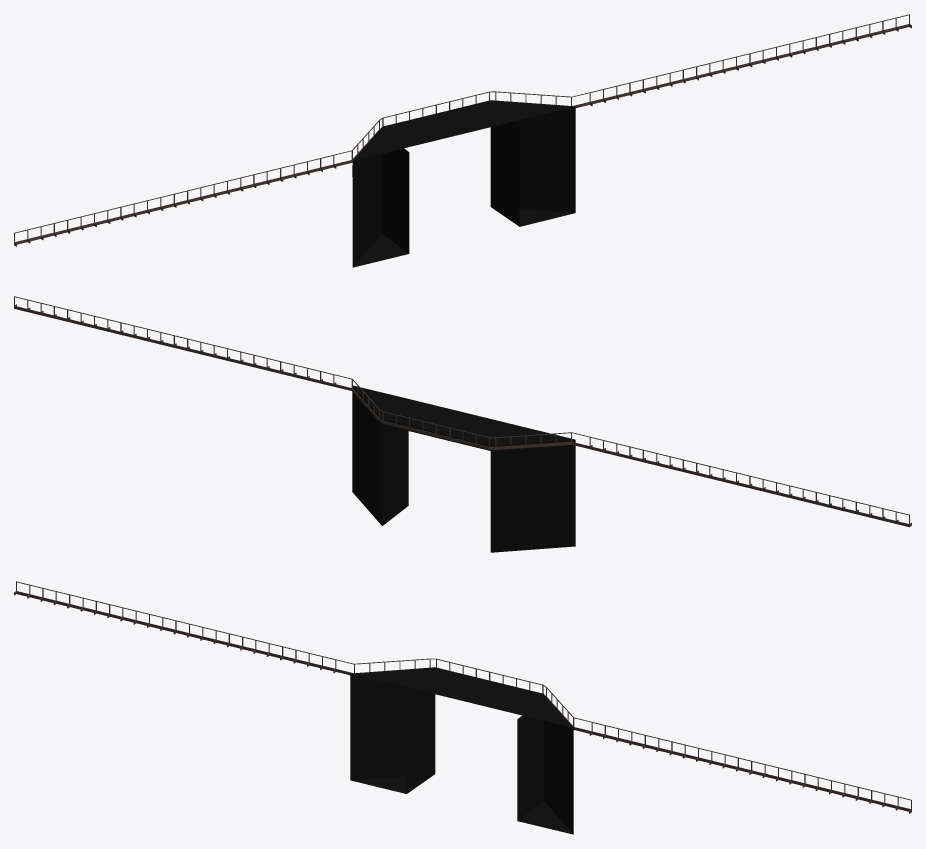
File: foreground rail.fbx
3 renders of one model, top to bottom at view 1: azimuth 30°, elevation 25°; view 2: azimuth 150°, elevation 25°; view 3: azimuth 330°, elevation 25°, orthographic.
Parts seen in each view (by area): view 1: foreground rail; view 2: foreground rail; view 3: foreground rail.
Boxes of the visible parts, box(x1,y1,x2,y2) form: foreground rail: box(14, 14, 911, 267); foreground rail: box(14, 296, 911, 552); foreground rail: box(14, 581, 911, 834).
Size of the model in its own units: 6147 by 756 by 335.
